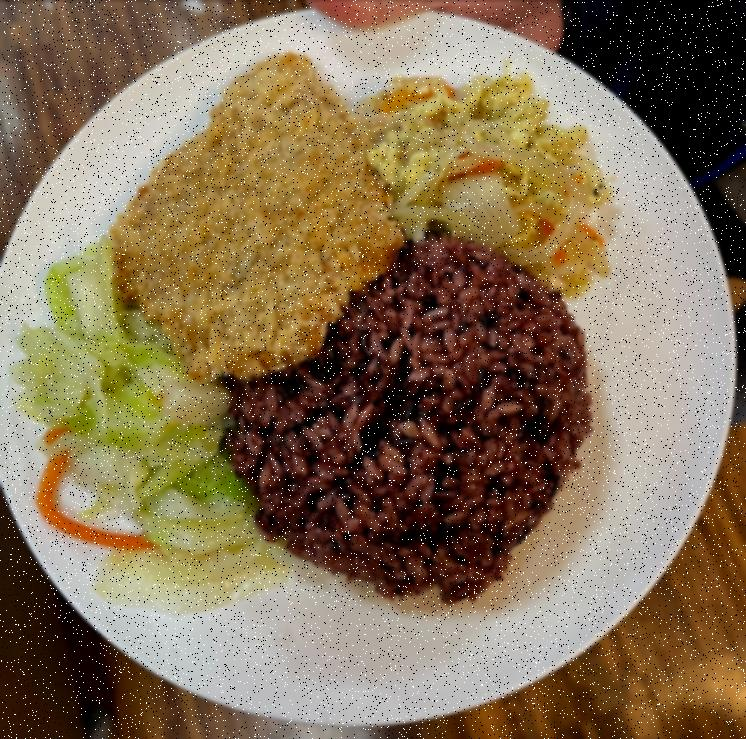big fried chicken leg: (0, 5, 736, 739)
braised fish: (223, 245, 596, 593)
braised fish fillet: (12, 247, 278, 614), (366, 62, 617, 296)
braised pork: (102, 46, 402, 374)
